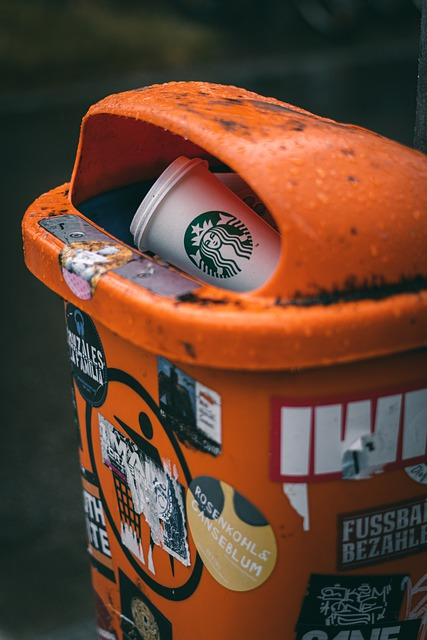cup: (114, 149, 280, 291)
